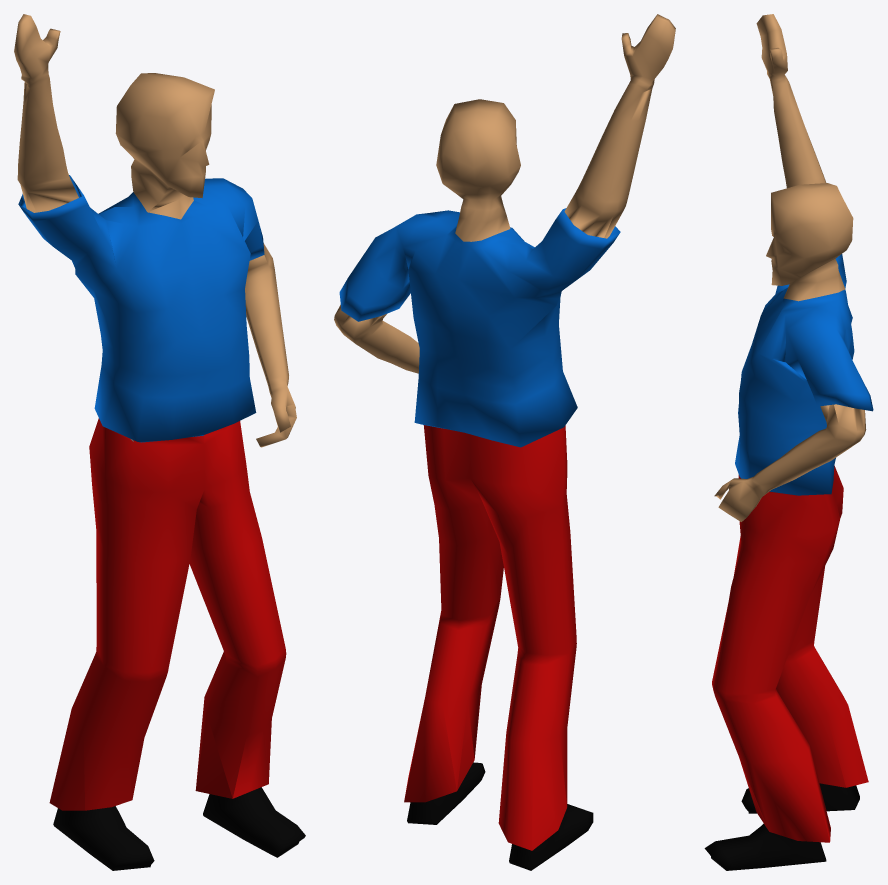
File: man.dae
The picture shows the model from 3 angles, left to right: view 1: azimuth 30°, elevation 25°; view 2: azimuth 150°, elevation 25°; view 3: azimuth 270°, elevation 25°; orthographic projection. The views are drawn at different scales.
Parts seen in each view (by area): view 1: ID18, ID2, ID26, ID46, ID10, ID82, ID58; view 2: ID18, ID2, ID26, ID46, ID10, ID82, ID58; view 3: ID18, ID2, ID26, ID10, ID46, ID58, ID82.
Boxes of the visible parts, x1,y1,x2,y2 form: ID18: (49,418,286,810); ID2: (18,175,264,442); ID26: (115,73,214,219); ID46: (14,14,78,212); ID10: (245,243,296,447); ID82: (53,806,154,870); ID58: (203,787,305,857); ID18: (404,425,576,850); ID2: (339,208,620,447); ID26: (436,99,520,241); ID46: (567,14,675,238); ID10: (334,305,419,373); ID82: (509,804,593,870); ID58: (407,762,485,824); ID18: (712,465,868,842); ID2: (735,254,873,495); ID26: (766,183,853,301); ID10: (714,404,866,521); ID46: (756,14,826,188); ID58: (704,823,826,870); ID82: (741,783,859,813).
Size of the model in its own units: 74.28 by 41.89 by 206.
